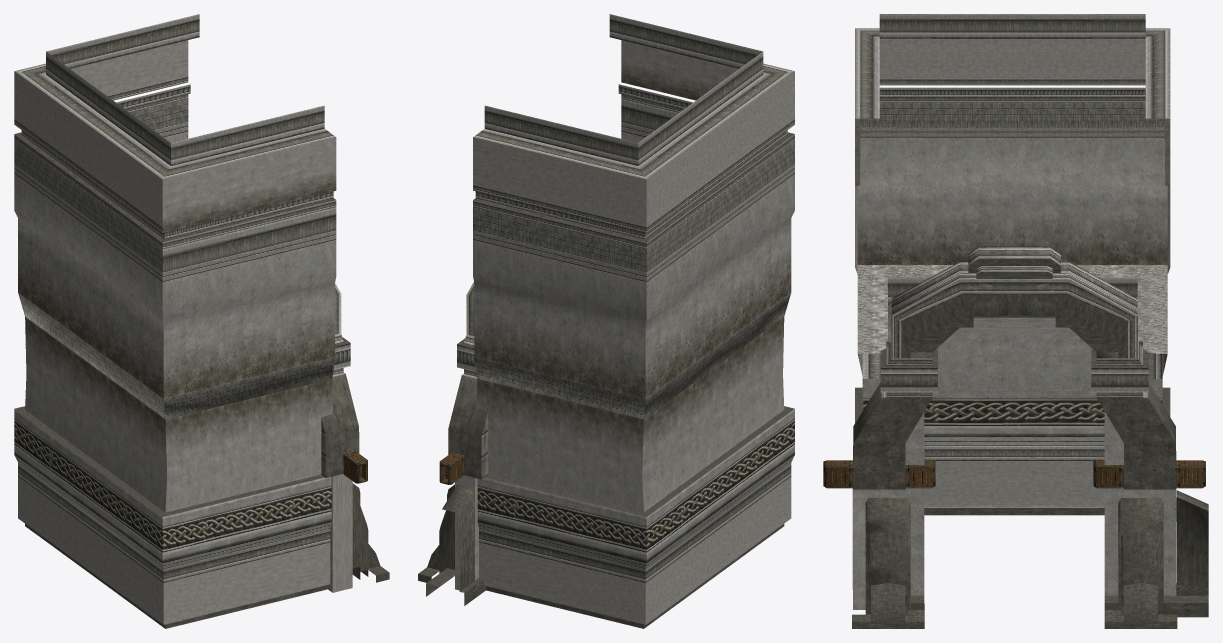
File: DWARF_PALACE_ARKENSTONE_ROOM_DWALLC.fbx
3 renders of one model, left to right at view 1: azimuth 30°, elevation 25°; view 2: azimuth 150°, elevation 25°; view 3: azimuth 270°, elevation 25°, orthographic. The views are drawn at different scales.
Parts seen in each view (by area): view 1: DWARF_PALACE_ARKENSTONE_ROOM_DWALLC; view 2: DWARF_PALACE_ARKENSTONE_ROOM_DWALLC; view 3: DWARF_PALACE_ARKENSTONE_ROOM_DWALLC.
Boxes of the visible parts, x1,y1,x2,y2 form: DWARF_PALACE_ARKENSTONE_ROOM_DWALLC: (14, 14, 389, 628); DWARF_PALACE_ARKENSTONE_ROOM_DWALLC: (418, 14, 794, 628); DWARF_PALACE_ARKENSTONE_ROOM_DWALLC: (823, 14, 1208, 628).
Bounding box in the file's own units: 101394 × 205000 × 140953.
Materials: 11 (11 with a texture image).
